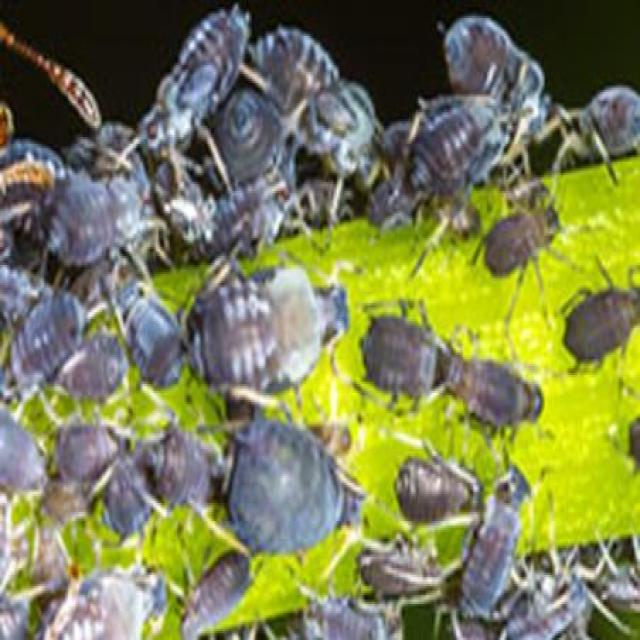Aphid-Grouped-: (2, 17, 630, 634)
